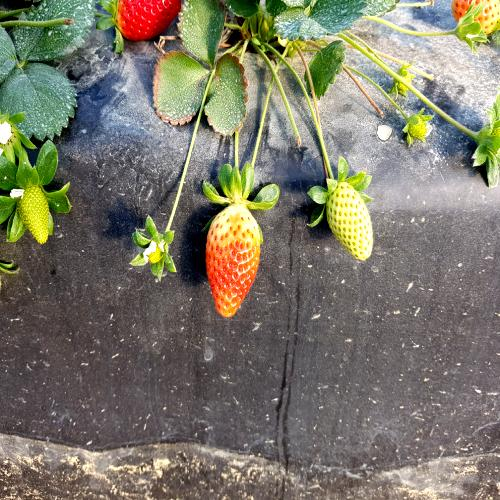partially-ripe: (201, 188, 266, 325)
